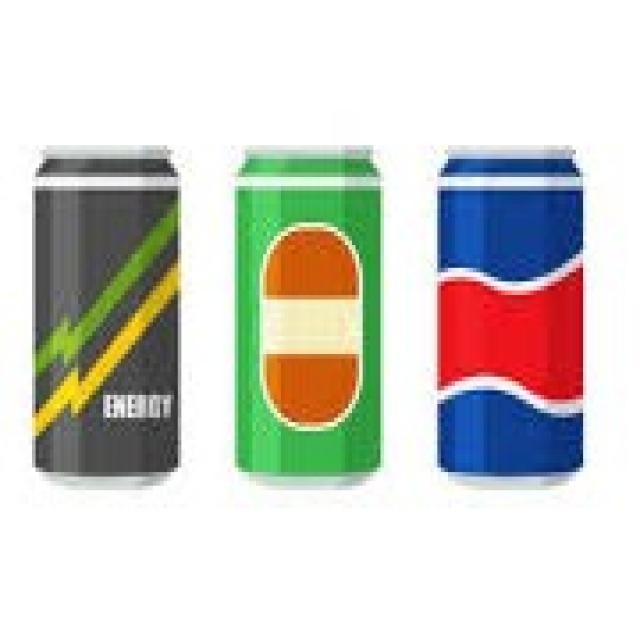Cans: (420, 132, 604, 499), (18, 132, 196, 494), (224, 127, 395, 495)
